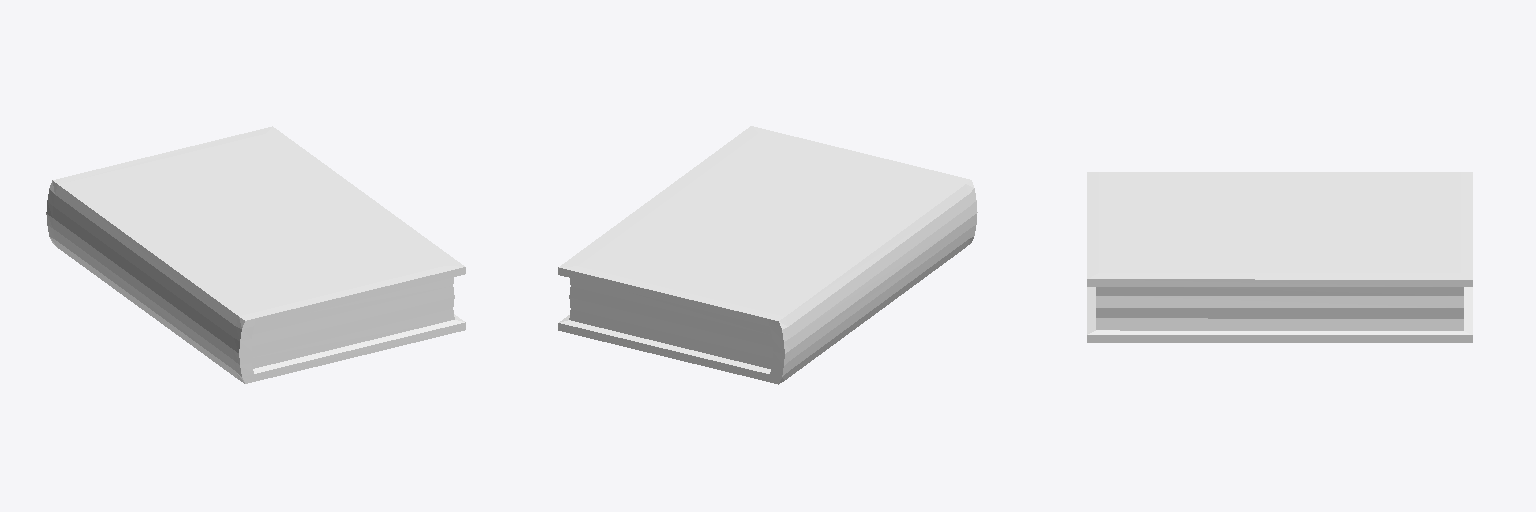
Rendered from aelita.obj.
The picture shows the model from 3 angles: view 1: azimuth 30°, elevation 25°; view 2: azimuth 150°, elevation 25°; view 3: azimuth 270°, elevation 25°; orthographic projection.
Bounding box in the file's own units: 0.9669 × 0.262 × 1.42.